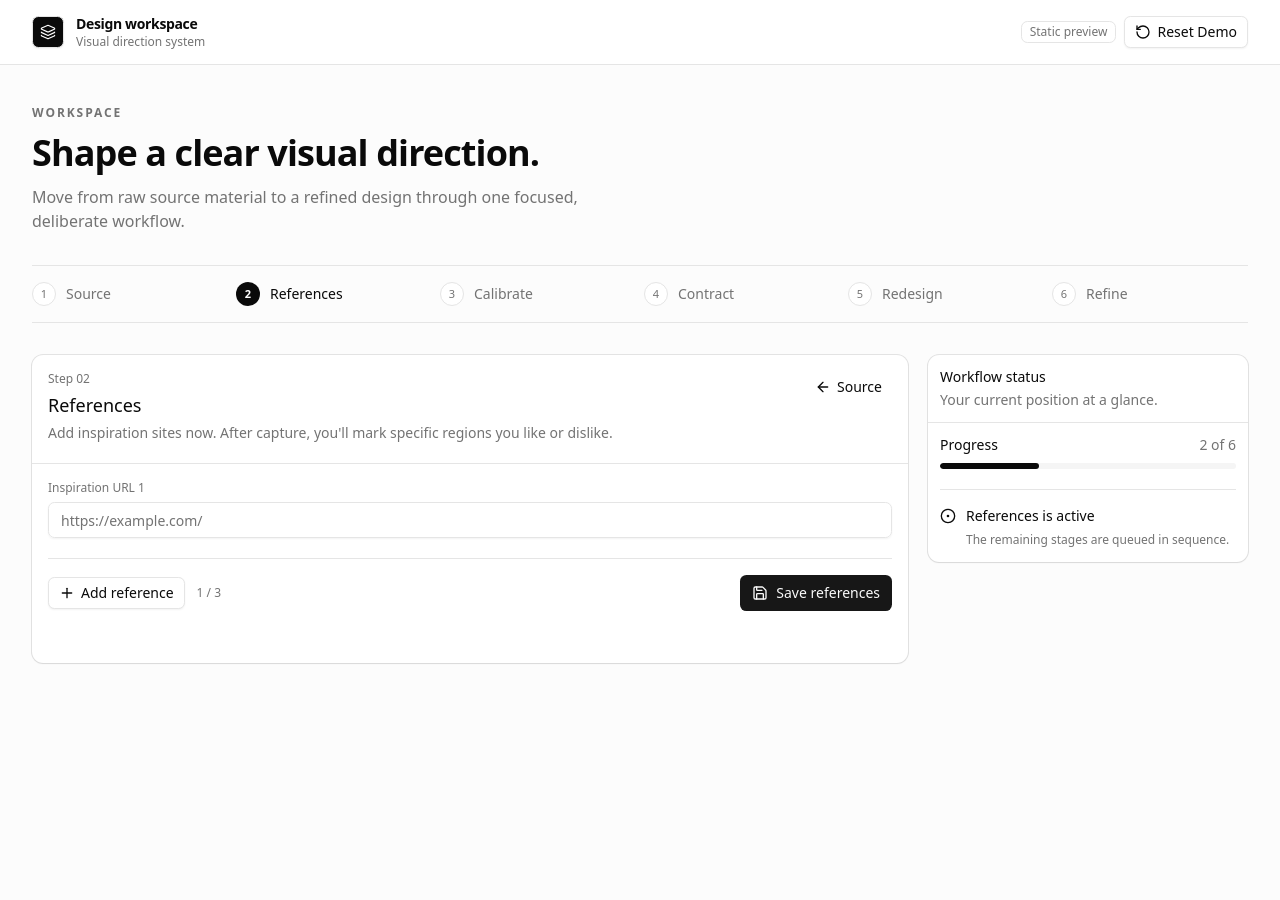
Reset Demo › cancels without invoking reset or changing state
Click the button "Reset Demo": (1186, 32) x1=1124 y1=16 x2=1248 y2=48
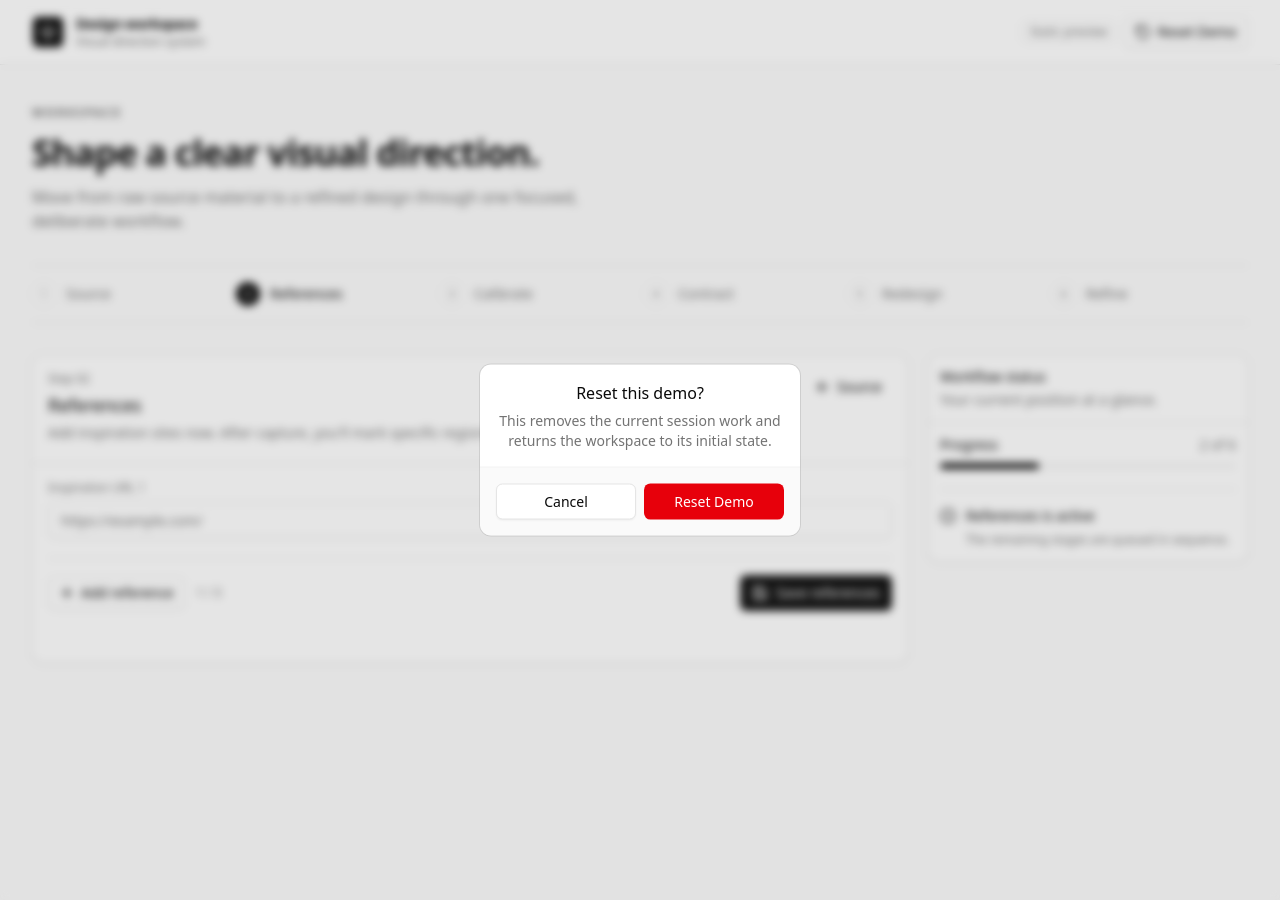
Click the button "Cancel": (566, 502) x1=496 y1=484 x2=636 y2=520
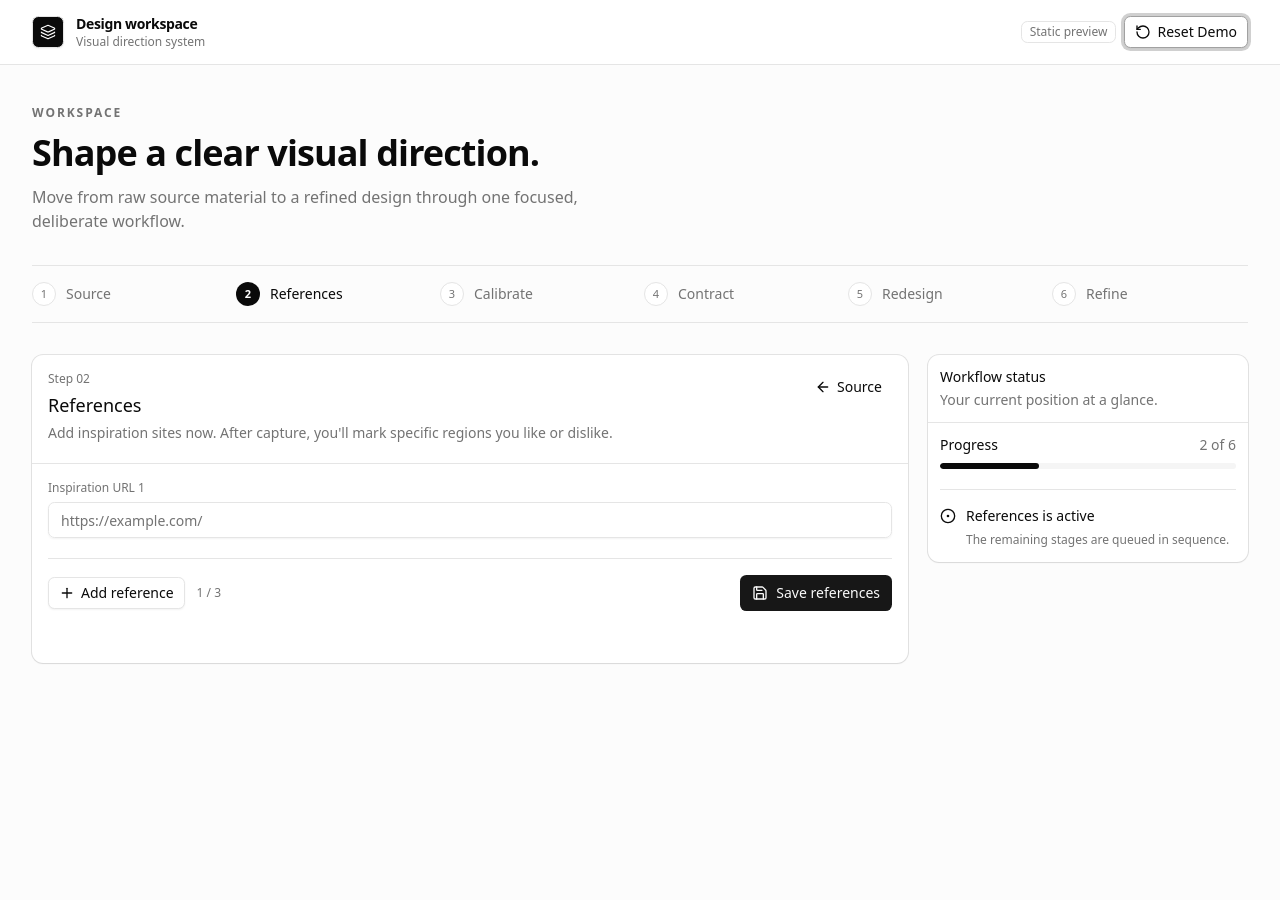
Expected: the list item "2 References" is shown, x1=236 y1=282 x2=343 y2=306
Expected: the dialog is gone
